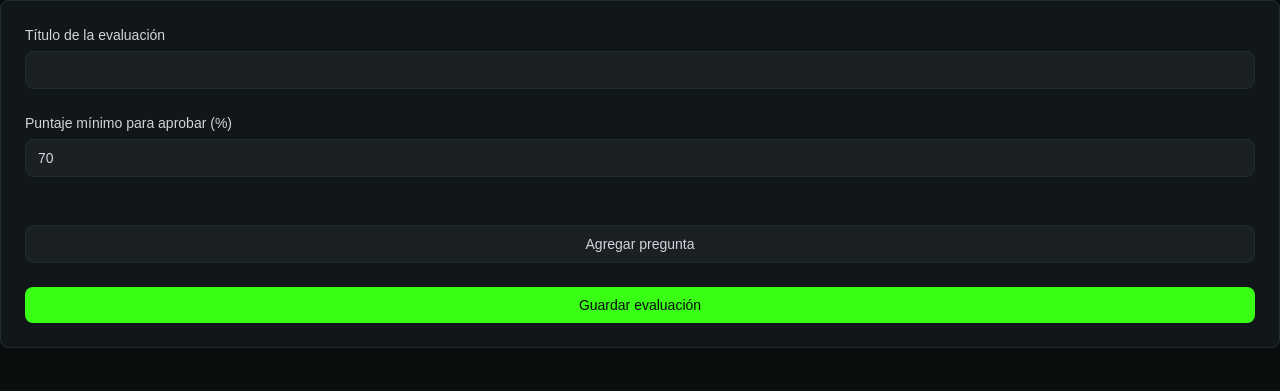
Test: QuizBuilderForm › blocks submit and shows a validation message when passing score is above 100
Replace the text in the number field labelled "Puntaje mínimo para aprobar (%)" with "150". click: (640, 158)
box: [25, 139, 1255, 177]
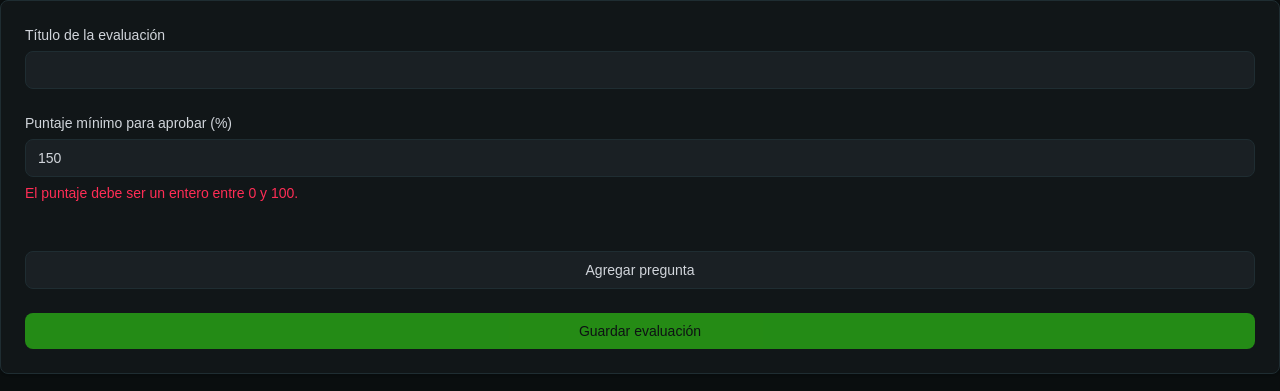
expect the button "Guardar evaluación" is disabled: met, box [25, 313, 1255, 349]
expect the text "El puntaje debe ser un entero entre 0 y 100." is shown: met, box [25, 185, 298, 201]
